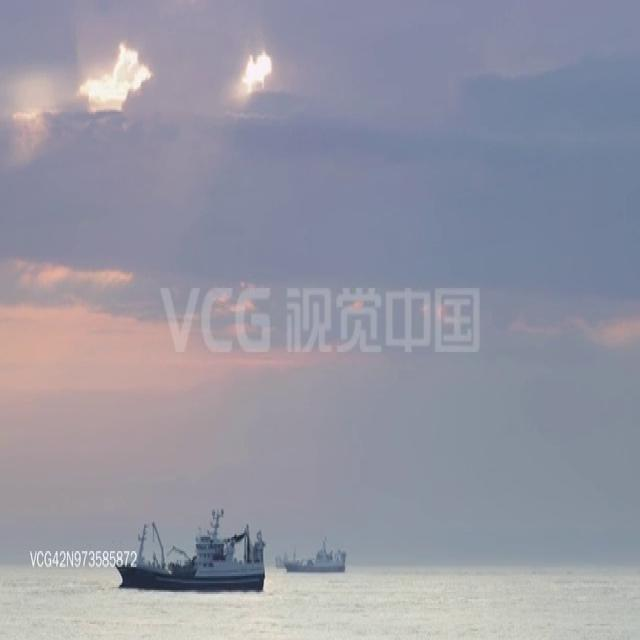cargoship: (107, 523, 272, 595), (284, 535, 355, 578)
